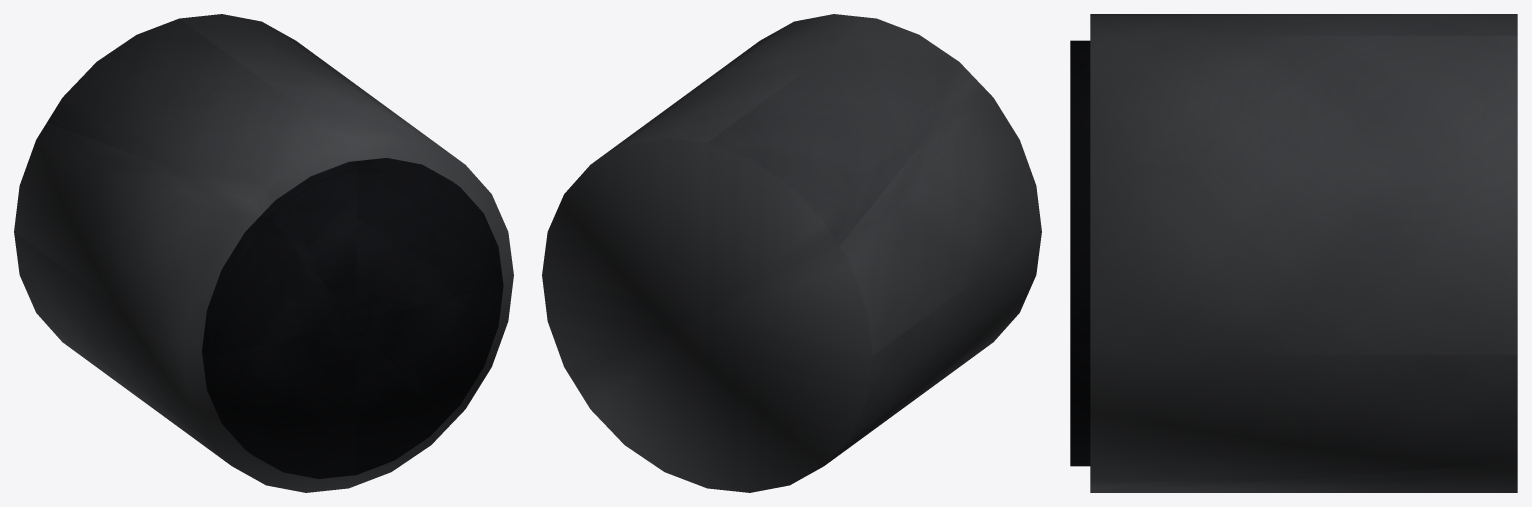
File: TRASH_BIN_001.glb
3 views of the same model, side by side, from view 1: azimuth 30°, elevation 25°; view 2: azimuth 150°, elevation 25°; view 3: azimuth 270°, elevation 25° (orthographic). The views are drawn at different scales.
Parts seen in each view (by area): view 1: bin_body_000, bin_inner_001; view 2: bin_body_000; view 3: bin_body_000, bin_inner_001.
Boxes of the visible parts, box(x1,y1,x2,y2) form: bin_body_000: box(14, 14, 513, 492); bin_inner_001: box(202, 158, 503, 478); bin_body_000: box(542, 14, 1041, 492); bin_body_000: box(1090, 14, 1517, 492); bin_inner_001: box(1070, 40, 1090, 466).
Size of the model in its own units: 0.36 by 0.36 by 0.335.
Materials: 2 (2 with a texture image).
